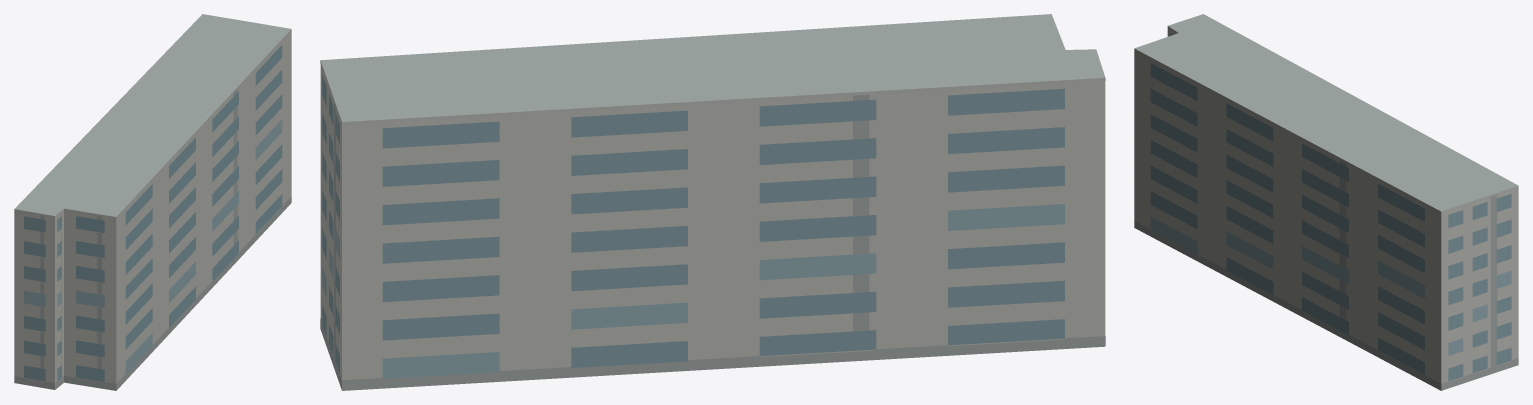
Rendered from survey-upis-32952705.glb.
3 views of the same model, side by side, from view 1: azimuth 30°, elevation 25°; view 2: azimuth 150°, elevation 25°; view 3: azimuth 270°, elevation 25° (orthographic). The views are drawn at different scales.
Parts seen in each view (by area): view 1: survey-upis-32952705.tmp; view 2: survey-upis-32952705.tmp; view 3: survey-upis-32952705.tmp.
Part boxes in pixels (x1=…): survey-upis-32952705.tmp: x1=14, y1=14, x2=291, y2=390; survey-upis-32952705.tmp: x1=320, y1=14, x2=1105, y2=390; survey-upis-32952705.tmp: x1=1134, y1=14, x2=1518, y2=390.
Size of the model in its own units: 50.44 by 21.35 by 41.49.
